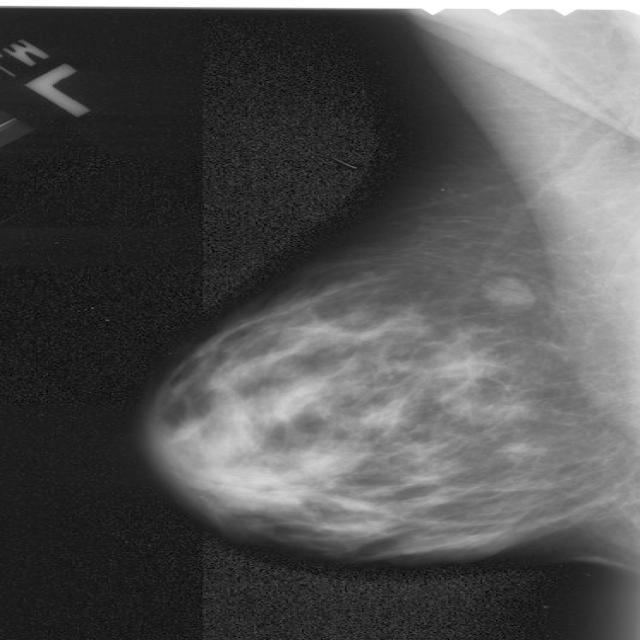tumour: (482, 275, 534, 306)
